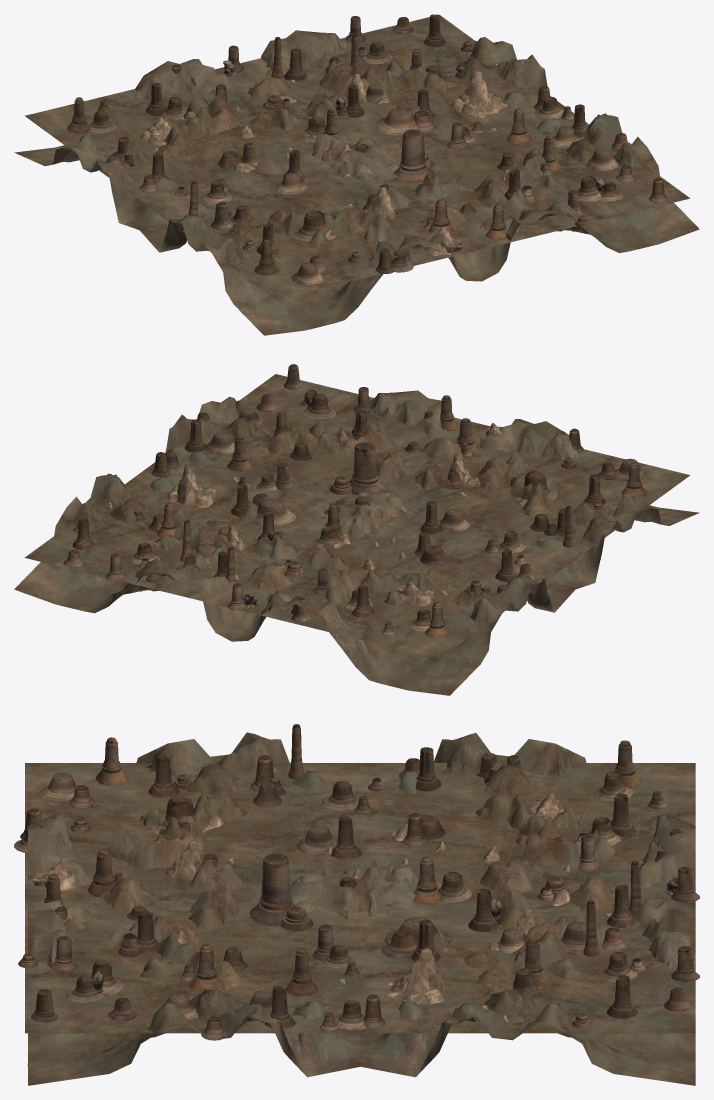
3 renders of one model, top to bottom at view 1: azimuth 30°, elevation 25°; view 2: azimuth 150°, elevation 25°; view 3: azimuth 270°, elevation 25°, orthographic. The views are drawn at different scales.
Parts seen in each view (by area): view 1: sence02a, mountains, sence02b, stone02; view 2: sence02a, mountains, sence02b, stone02; view 3: sence02a, mountains, sence02b, stone02, stone01.
Boxes of the visible parts, box(x1,y1,x2,y2) form: sence02a: box(25, 14, 690, 299); mountains: box(14, 30, 699, 335); sence02b: box(67, 14, 667, 285); stone02: box(140, 71, 508, 255); sence02a: box(24, 374, 690, 658); mountains: box(14, 390, 699, 695); sence02b: box(63, 364, 646, 637); stone02: box(167, 423, 527, 605); sence02a: box(25, 763, 695, 1033); mountains: box(27, 732, 695, 1085); sence02b: box(14, 724, 699, 1040); stone02: box(32, 792, 569, 1005); stone01: box(92, 874, 678, 993).
Size of the model in its own units: 2868 by 511 by 2924.
